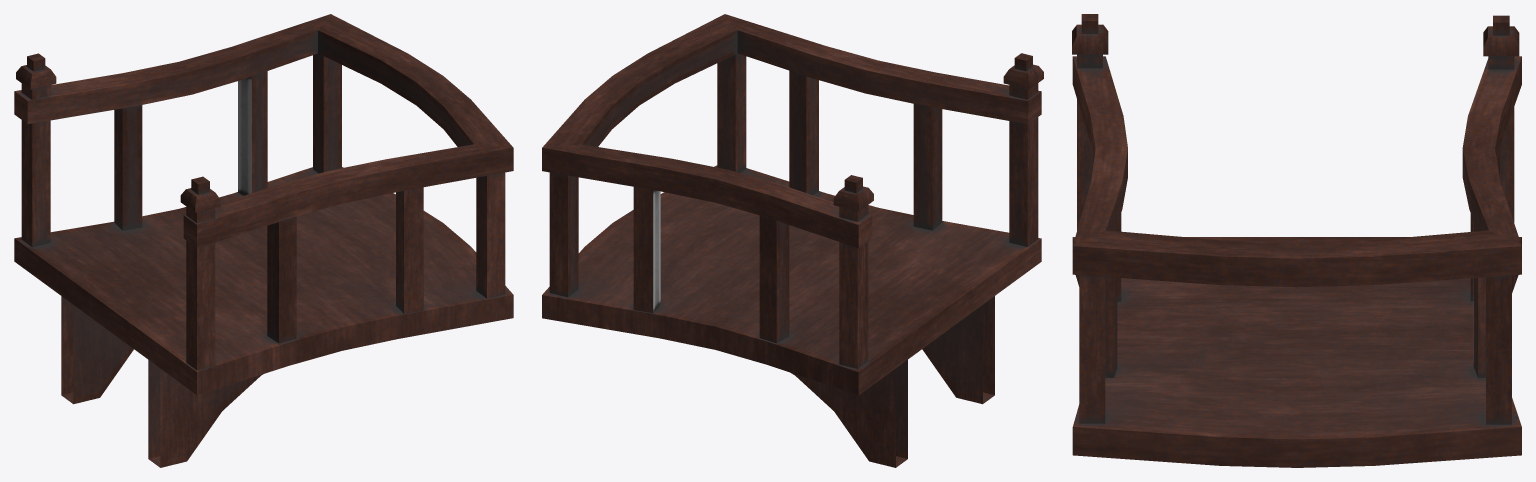
File: SM_Soap.fbx
3 views of the same model, side by side, from view 1: azimuth 30°, elevation 25°; view 2: azimuth 150°, elevation 25°; view 3: azimuth 270°, elevation 25° (orthographic). The views are drawn at different scales.
Parts seen in each view (by area): view 1: SM_Soap; view 2: SM_Soap; view 3: SM_Soap.
Part boxes in pixels (bbox=[...]): SM_Soap: bbox=[14, 14, 513, 467]; SM_Soap: bbox=[542, 14, 1043, 467]; SM_Soap: bbox=[1072, 14, 1521, 467].
Bounding box in the file's own units: 11.99 × 11.2 × 10.51.
Materials: 1 (1 with a texture image).
